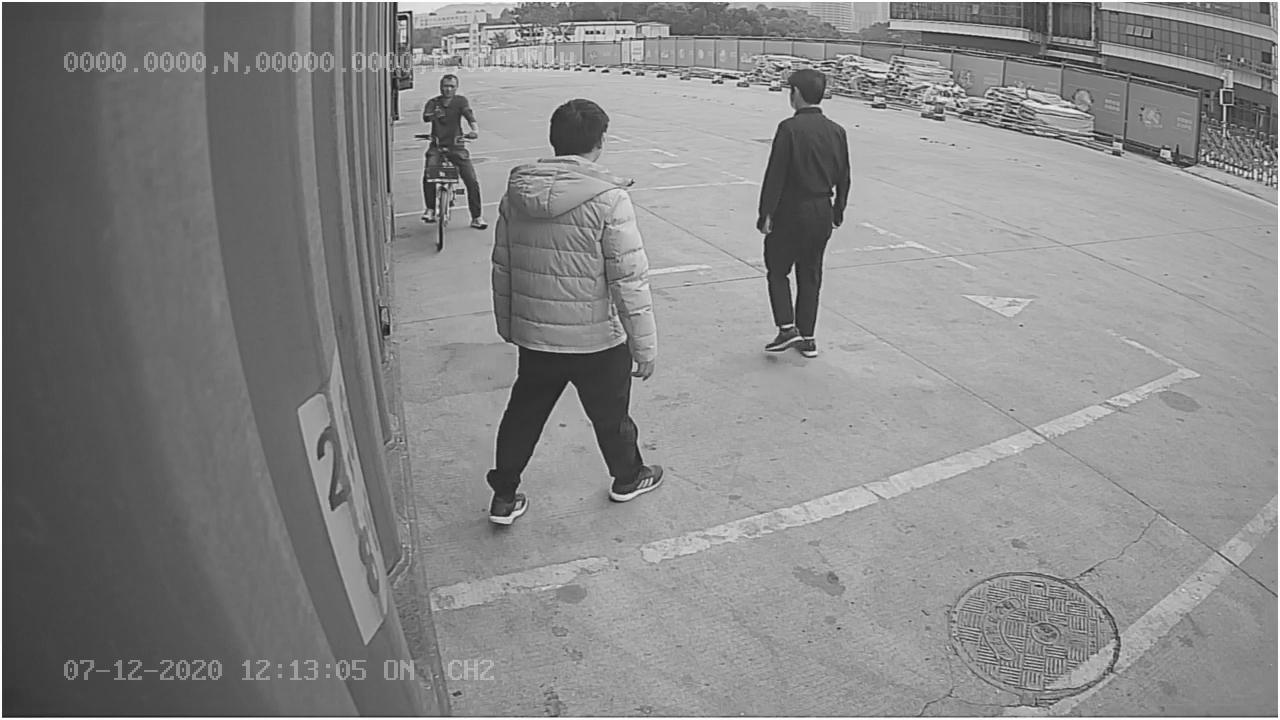person: (754, 64, 857, 366)
